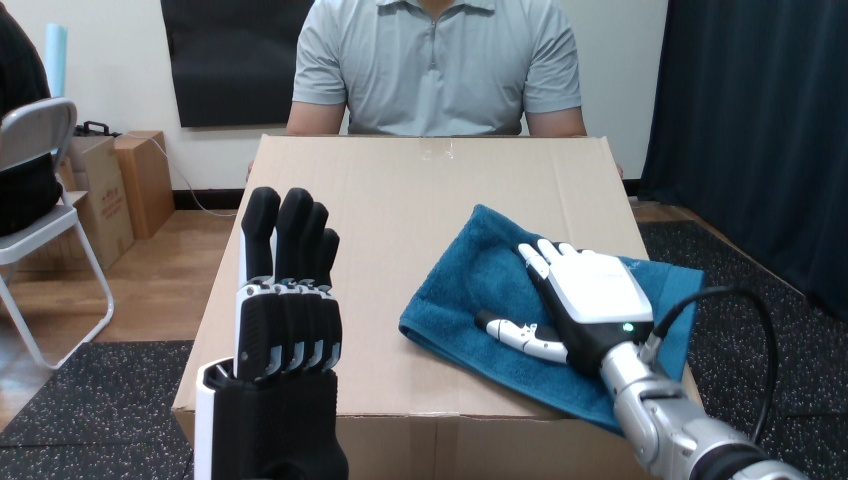left robot hand: (475, 238, 806, 479), (194, 187, 347, 478), (656, 294, 768, 439)
